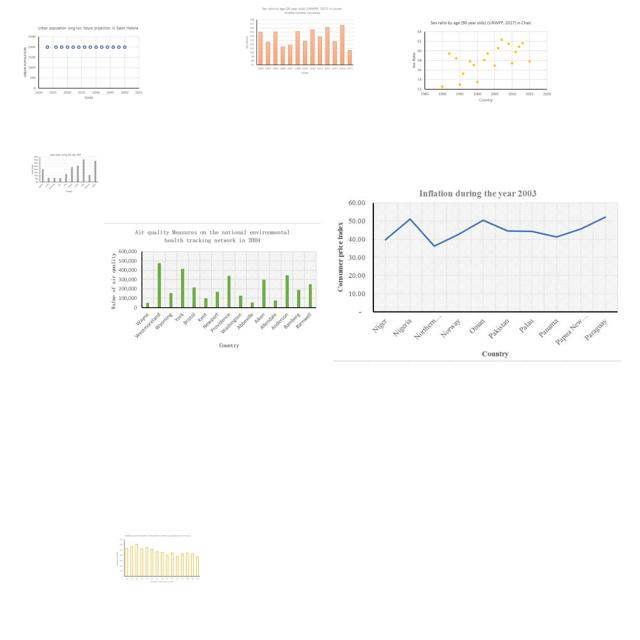Graph: (333, 186, 621, 362), (104, 223, 321, 352), (408, 19, 553, 104), (11, 23, 145, 103), (242, 5, 355, 76), (114, 533, 202, 585), (31, 153, 99, 193)
